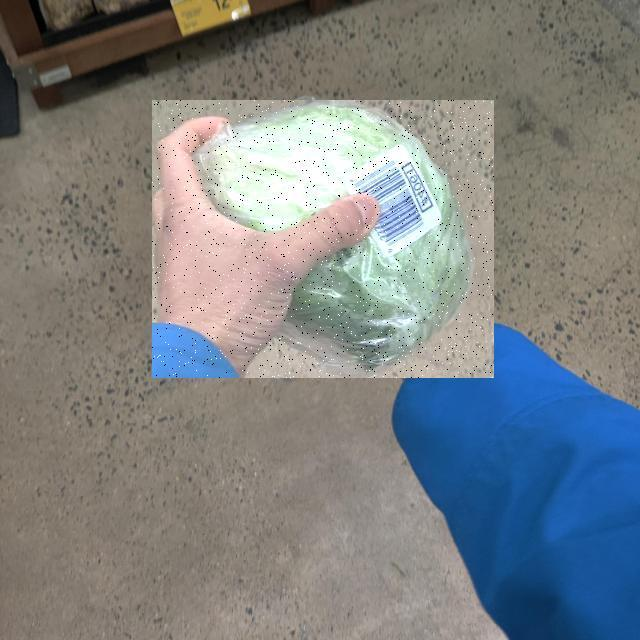Cabbage: (152, 101, 494, 379)
